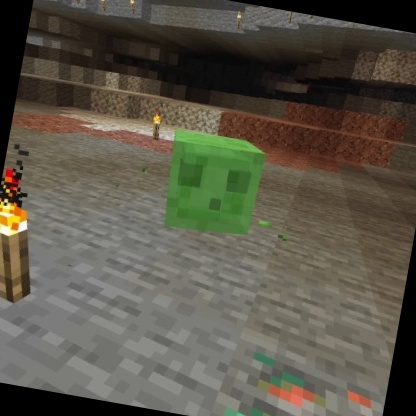slime: (153, 124, 270, 246)
